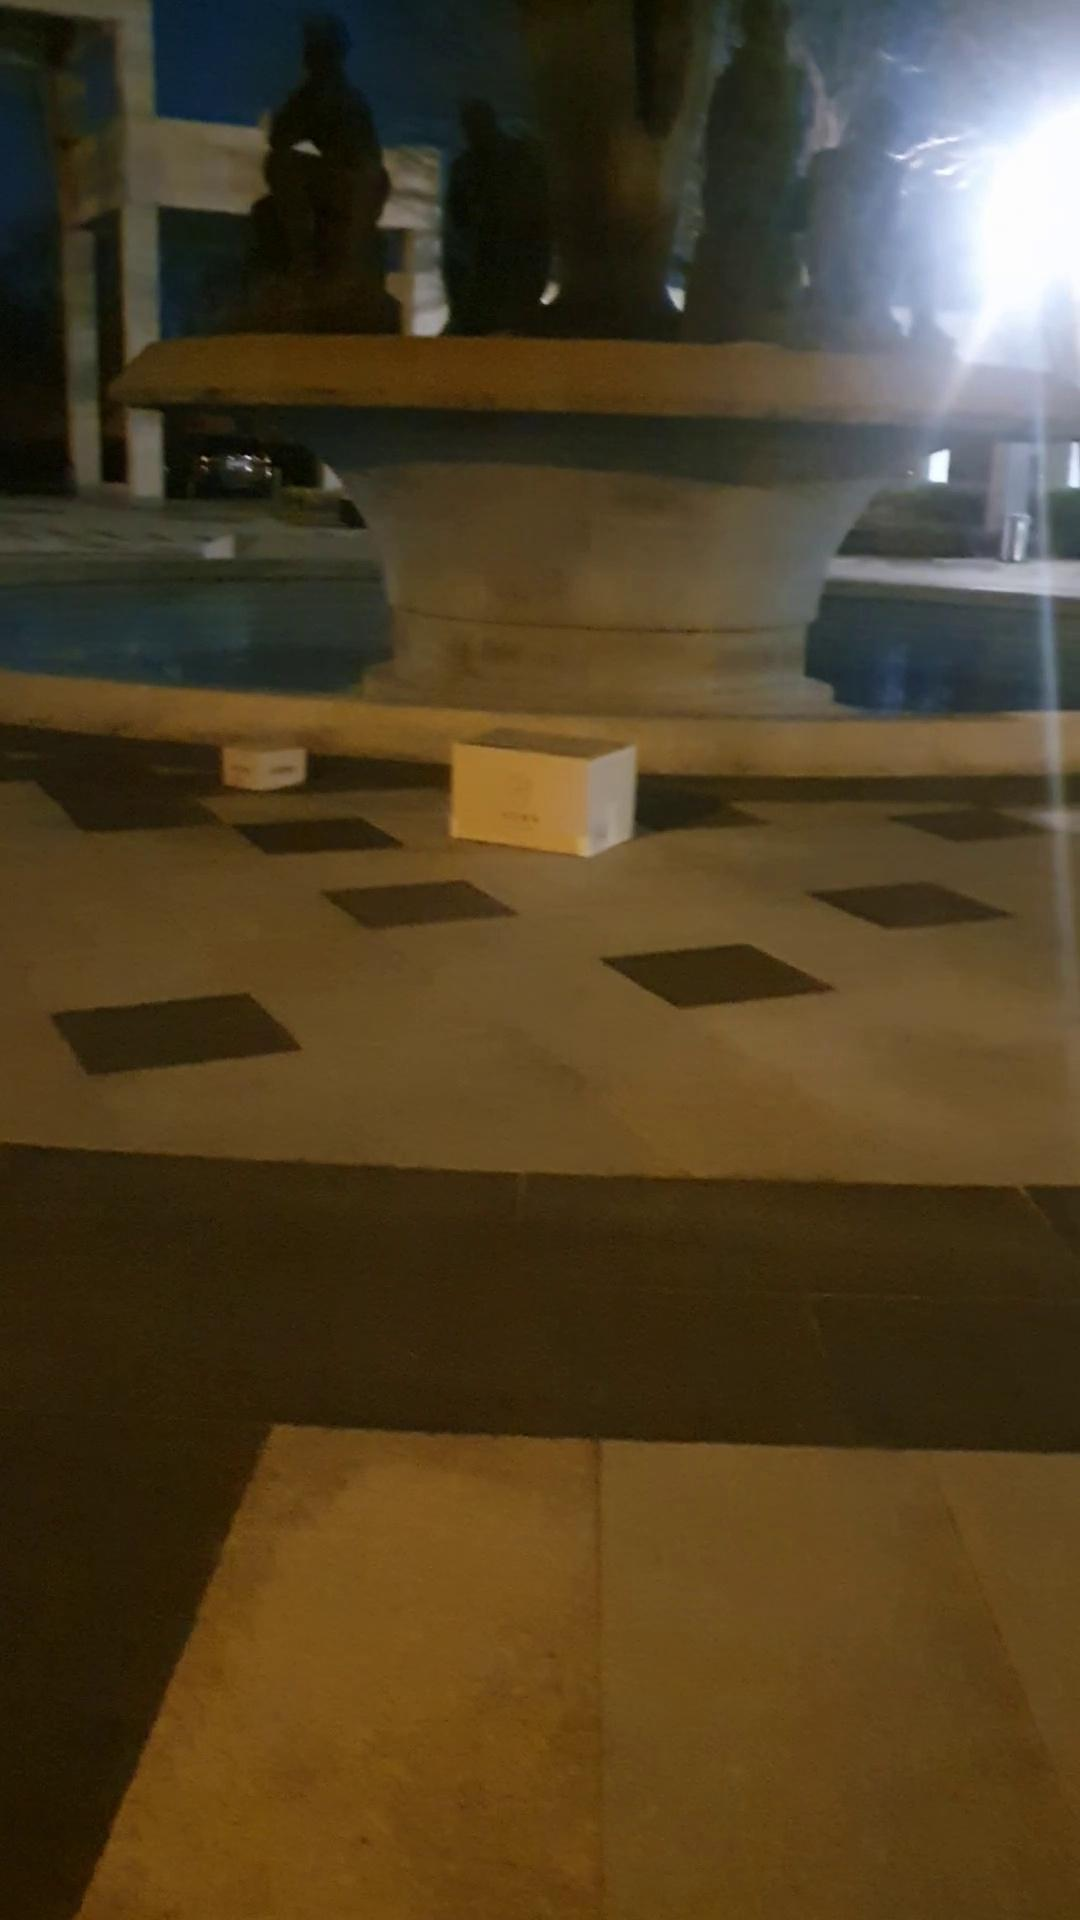Box: (438, 709, 651, 870), (203, 728, 322, 808)
